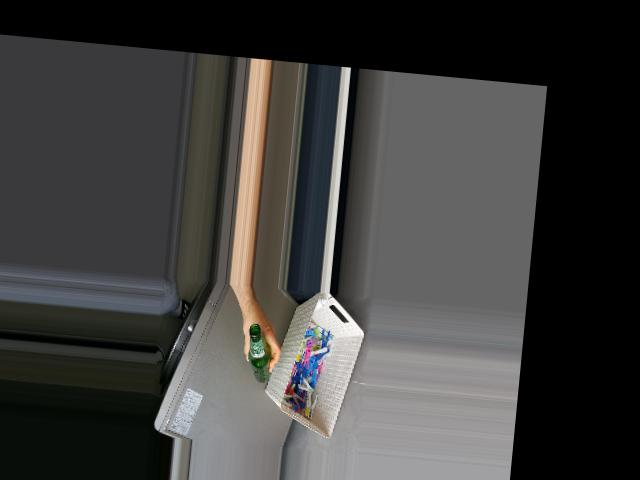beer: (244, 322, 276, 383)
